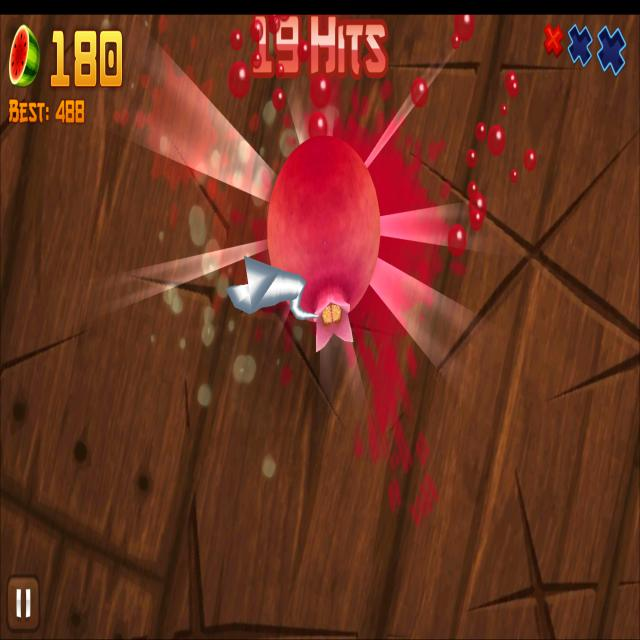fruit: (267, 136, 381, 324)
